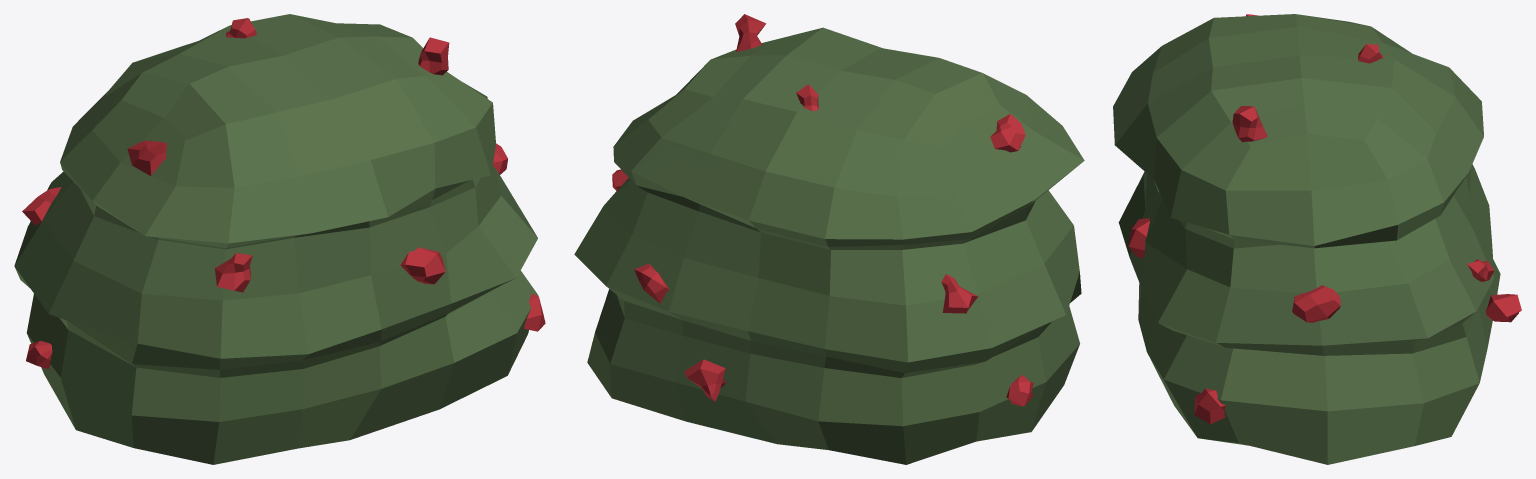
File: bushberries_4.glb
3 views of the same model, side by side, from view 1: azimuth 30°, elevation 25°; view 2: azimuth 150°, elevation 25°; view 3: azimuth 270°, elevation 25° (orthographic). The views are drawn at different scales.
Visible parts, largest first — view 1: BushBerries_4; view 2: BushBerries_4; view 3: BushBerries_4.
Boxes of the visible parts, box(x1,y1,x2,y2) form: BushBerries_4: box(14, 14, 545, 464); BushBerries_4: box(574, 14, 1084, 464); BushBerries_4: box(1113, 14, 1521, 464).
Bounding box in the file's own units: 1.72 × 1.28 × 1.39.
